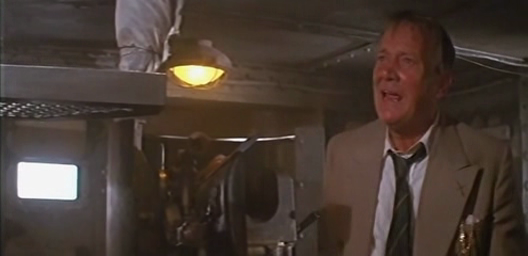face: (371, 37, 425, 126)
mcu: (1, 1, 528, 256)
person: (317, 8, 528, 256)
